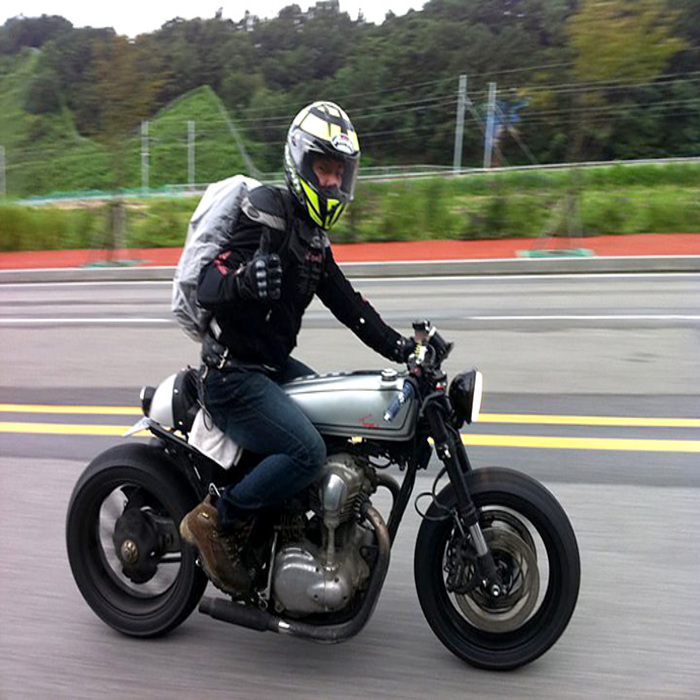h: (272, 100, 369, 238)
